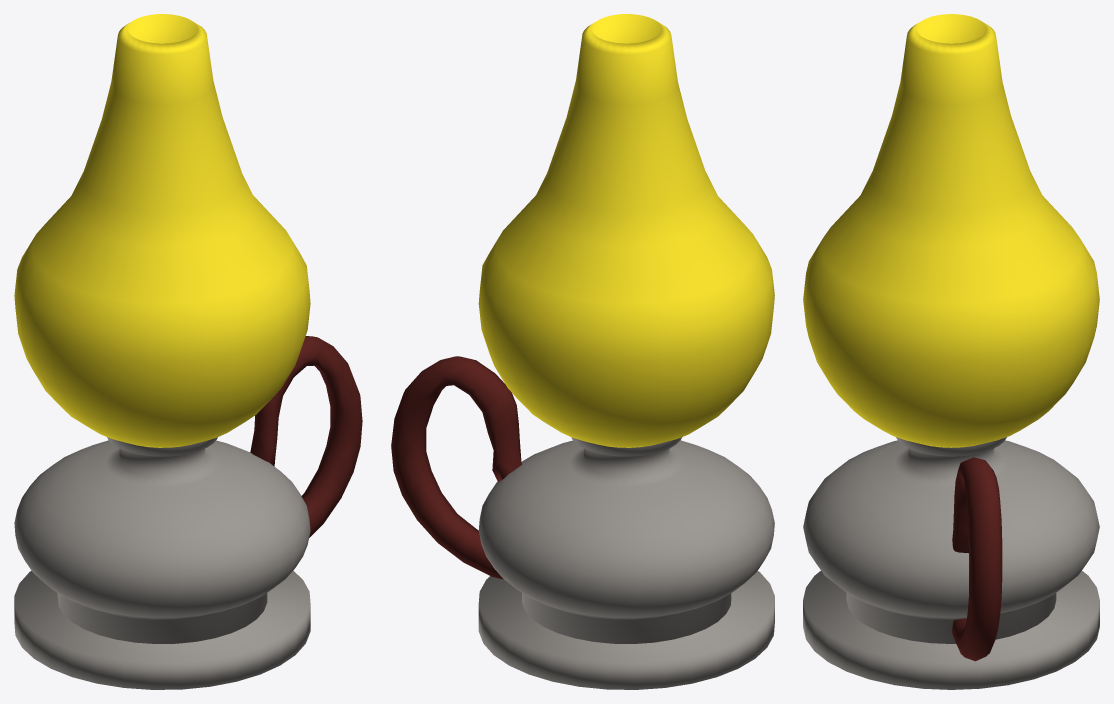
File: gaz.fbx
The picture shows the model from 3 angles, left to right: view 1: azimuth 30°, elevation 25°; view 2: azimuth 150°, elevation 25°; view 3: azimuth 270°, elevation 25°; orthographic projection.
Parts seen in each view (by area): view 1: Sphere_001; view 2: Sphere_001; view 3: Sphere_001.
Part boxes in pixels (x1,y1,x2,y2): Sphere_001: [14, 14, 362, 689]; Sphere_001: [391, 14, 774, 689]; Sphere_001: [803, 14, 1099, 689].
Bounding box in the file's own units: 2.68 × 4.45 × 2.
